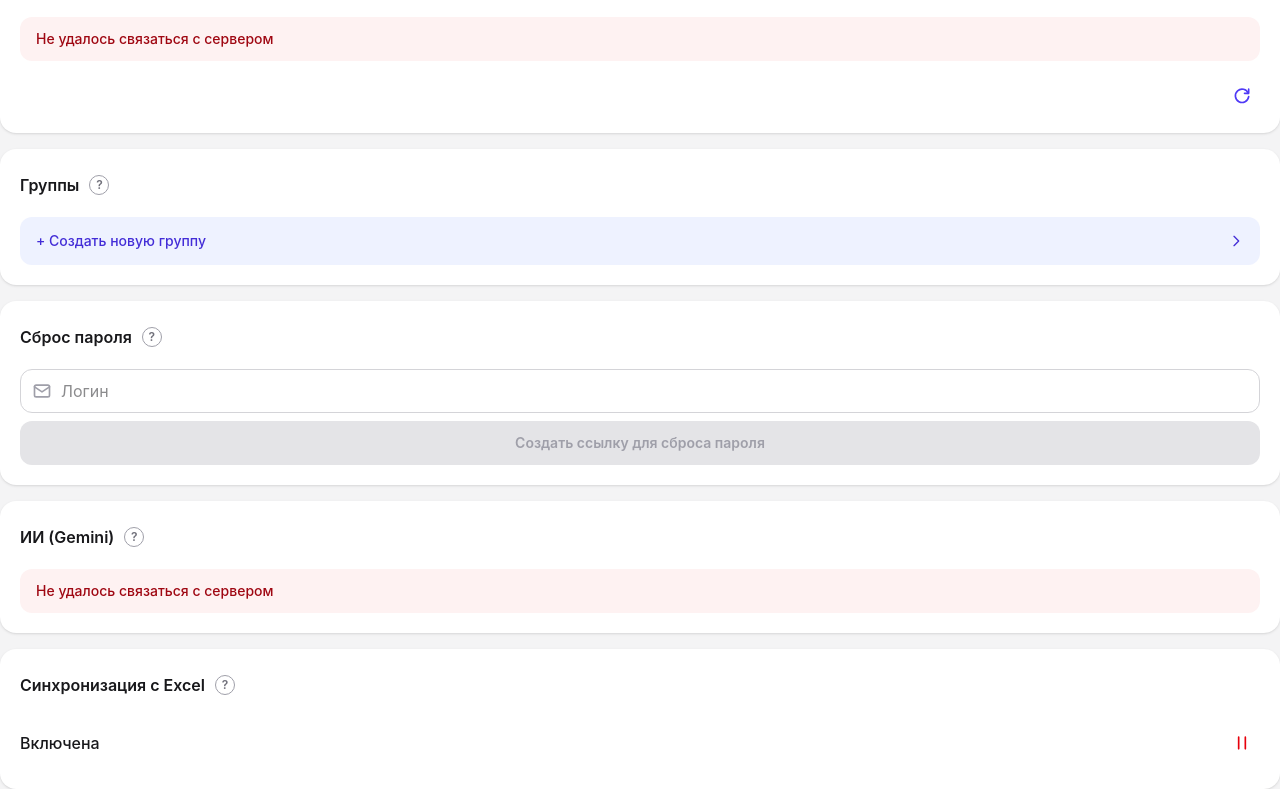
Test: раздел «Синхронизация с Excel» › выключение идёт через подтверждение и отправляет enabled: false
(page scrolled)
Expected: the heading "Синхронизация с Excel" is shown, left=20, top=673, right=205, bottom=697
Expected: the text "Включена" is shown, left=20, top=733, right=100, bottom=753
Step 1. Click the button named "Выключить синхронизацию" → (1242, 743), box left=1224, top=725, right=1260, bottom=761
(page scrolled)
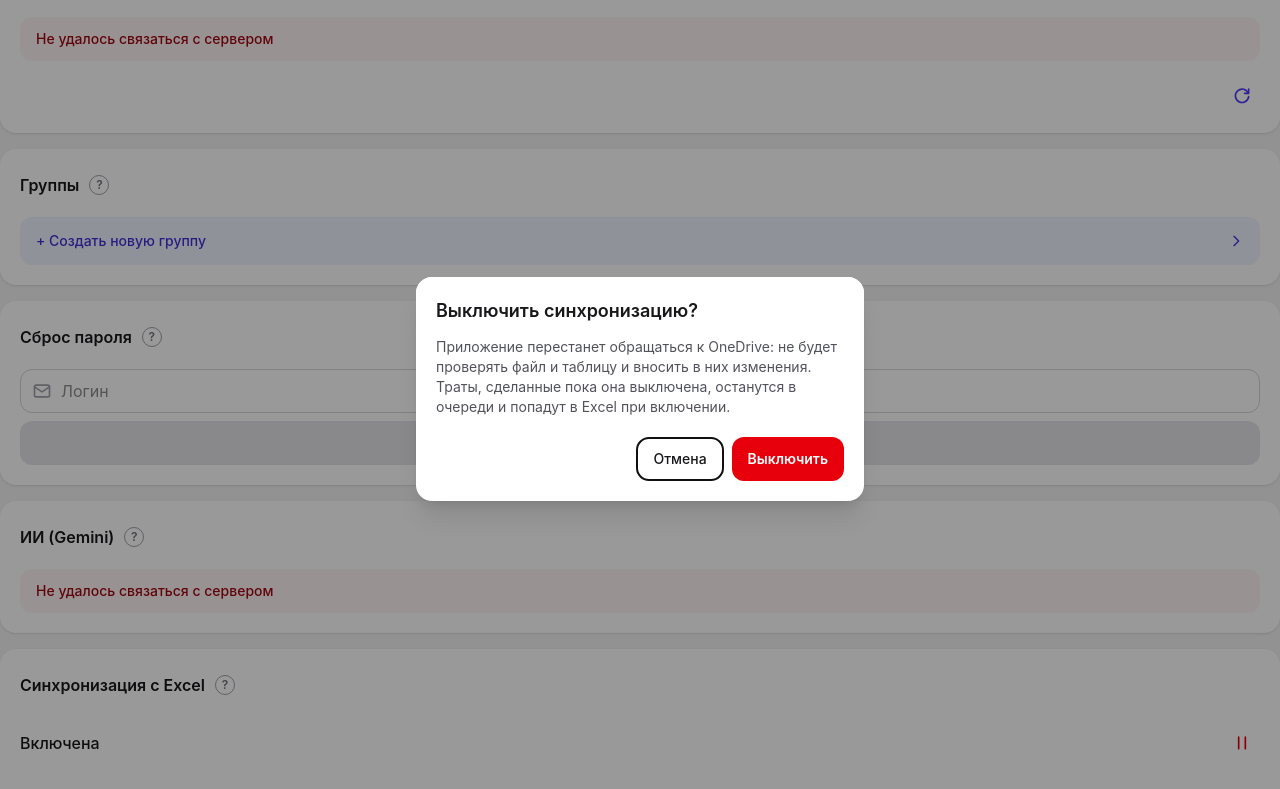
Expected: the dialog shows "перестанет обращаться к OneDrive", left=436, top=338, right=837, bottom=415
Step 2. Click the button "Выключить" → (788, 459), box left=732, top=437, right=844, bottom=481
(page scrolled)
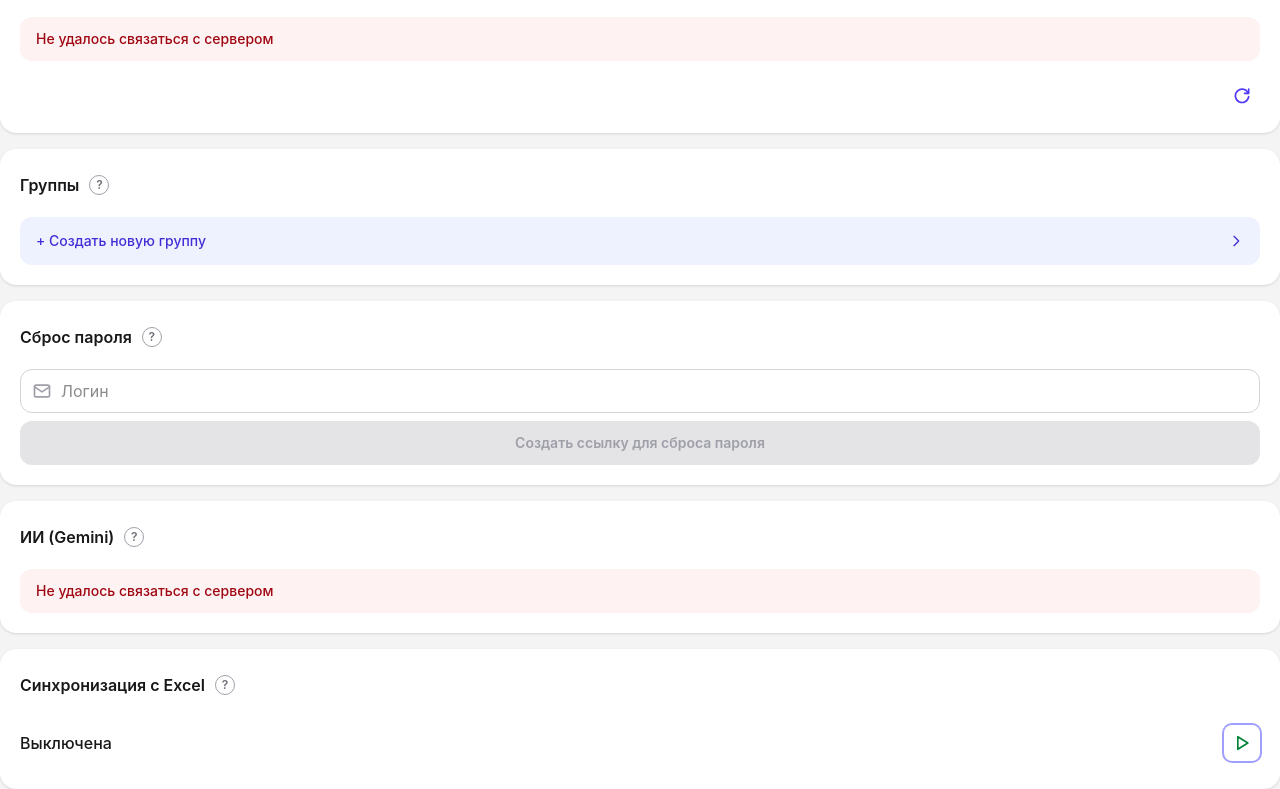
Expected: the text "Выключена" is shown, left=20, top=733, right=112, bottom=753
